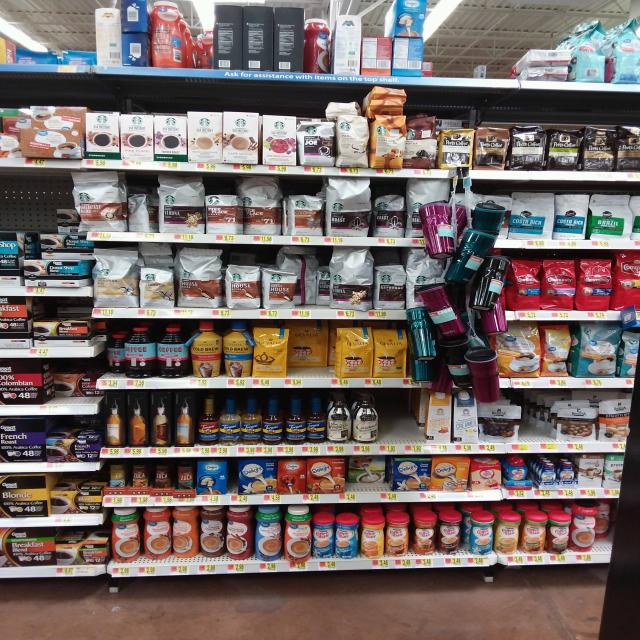void: (464, 0, 515, 88), (429, 2, 464, 86), (382, 391, 418, 458), (60, 6, 88, 74), (29, 6, 56, 76), (0, 3, 27, 71), (520, 393, 551, 452)
